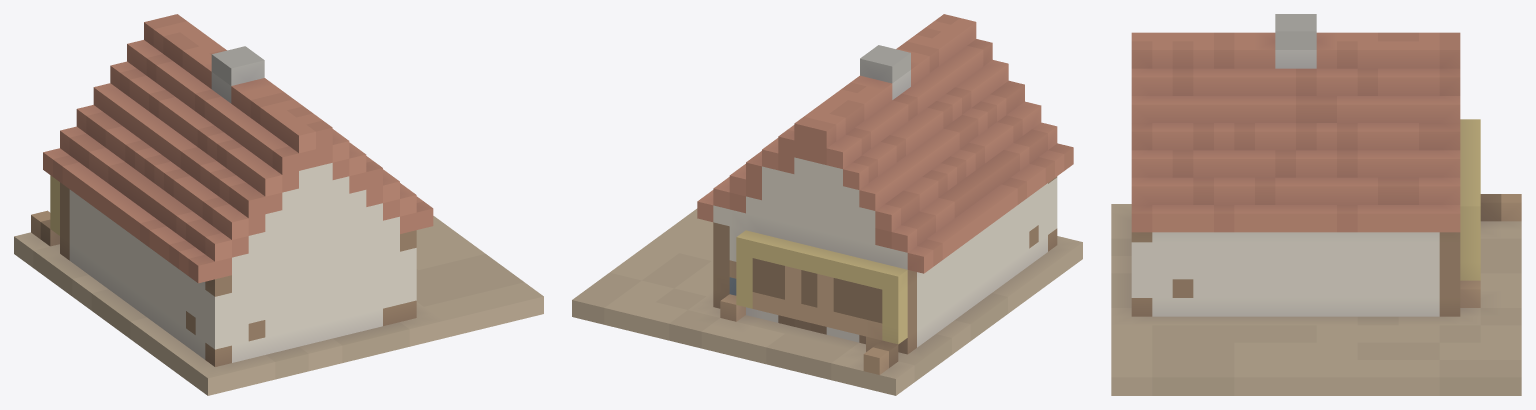
The model's file is apiary.lite.glb.
3 views of the same model, side by side, from view 1: azimuth 30°, elevation 25°; view 2: azimuth 150°, elevation 25°; view 3: azimuth 270°, elevation 25° (orthographic). The views are drawn at different scales.
Visible parts, largest first — view 1: apiary; view 2: apiary; view 3: apiary.
Part boxes in pixels (<box>): apiary: <box>14,14,543,395</box>; apiary: <box>572,14,1082,395</box>; apiary: <box>1111,14,1521,395</box>.
Bounding box in the file's own units: 5 × 3.5 × 5.
